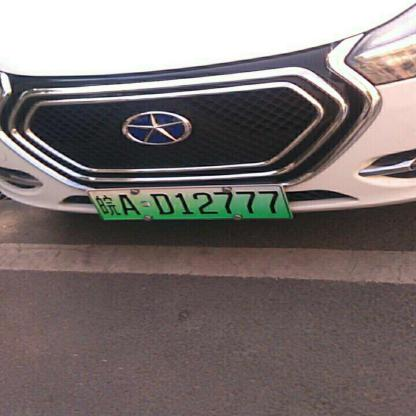lp: (86, 184, 291, 219)
